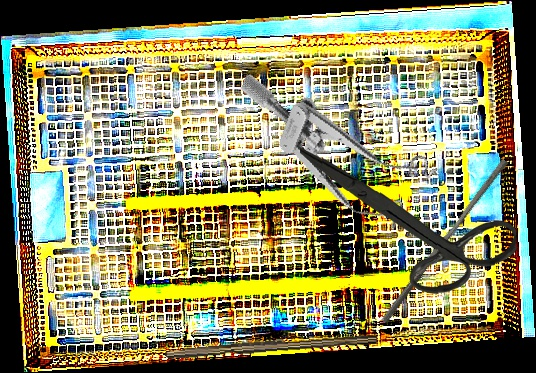Iris Scissors: (299, 143, 518, 296)
Pusher: (380, 154, 510, 329)
Scalpel Handle: (164, 328, 378, 363)
Speculum: (212, 72, 446, 238)
